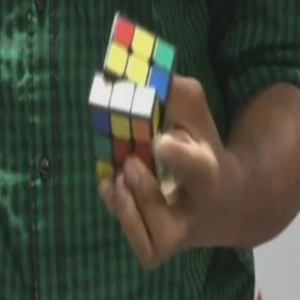cube: (87, 12, 177, 179)
